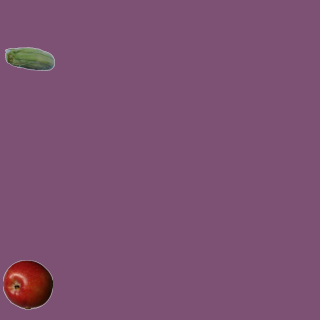Apple Braeburn: (2, 259, 52, 309)
Corn Husk: (4, 35, 54, 85)
